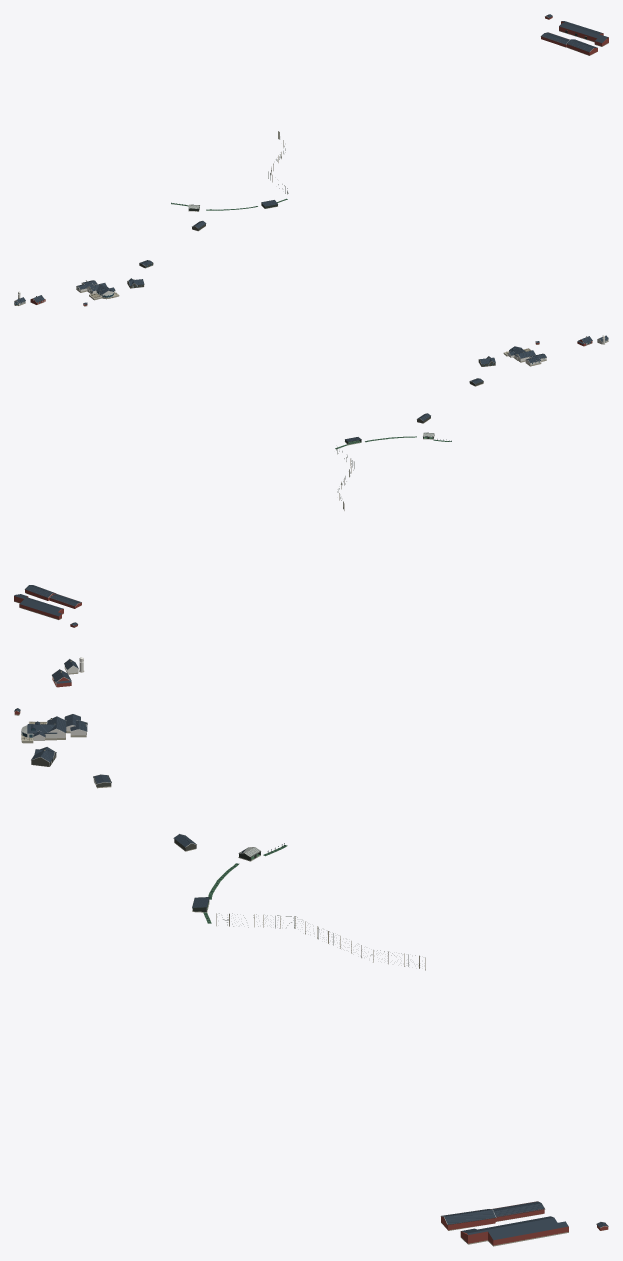
The model's file is facilities-v1.glb.
3 views of the same model, one above another, from view 1: azimuth 30°, elevation 25°; view 2: azimuth 210°, elevation 25°; view 3: azimuth 270°, elevation 25° (orthographic). The views are drawn at different scales.
Parts seen in each view (by area): view 1: no part large enough to name; view 2: Visby / way/530655628 / Service clipped roof / roof; view 3: Visby / way/530655628 / Service clipped roof / roof.
Part boxes in pixels (left/top/right/bottom): Visby / way/530655628 / Service clipped roof / roof: left=14, top=594, right=63, bottom=616; Visby / way/530655628 / Service clipped roof / roof: left=461, top=1216, right=568, bottom=1240.
Bounding box in the file's own units: 866 × 13.93 × 375.
